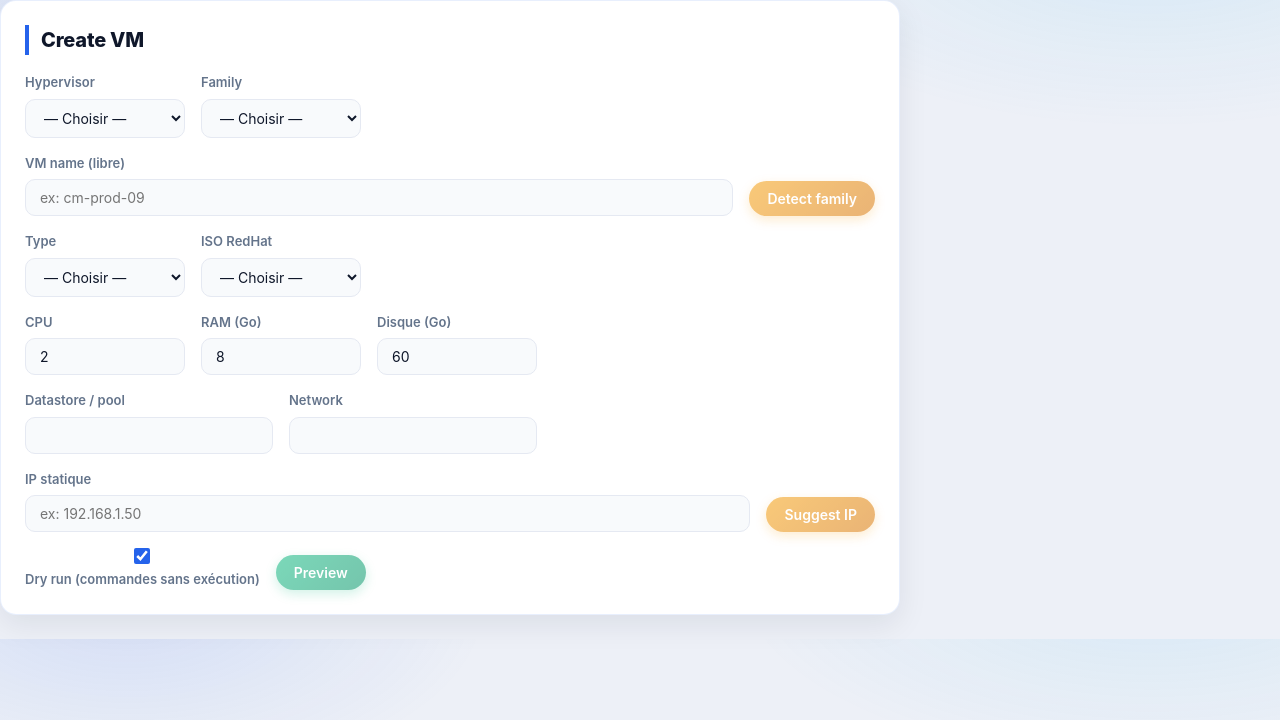
CreatePage › détecte la famille, suggère une IP et prévisualise
Select "esx-08 (esxi)" in the dropdown labelled "Hypervisor": point(105, 118) 25,98 -> 185,138
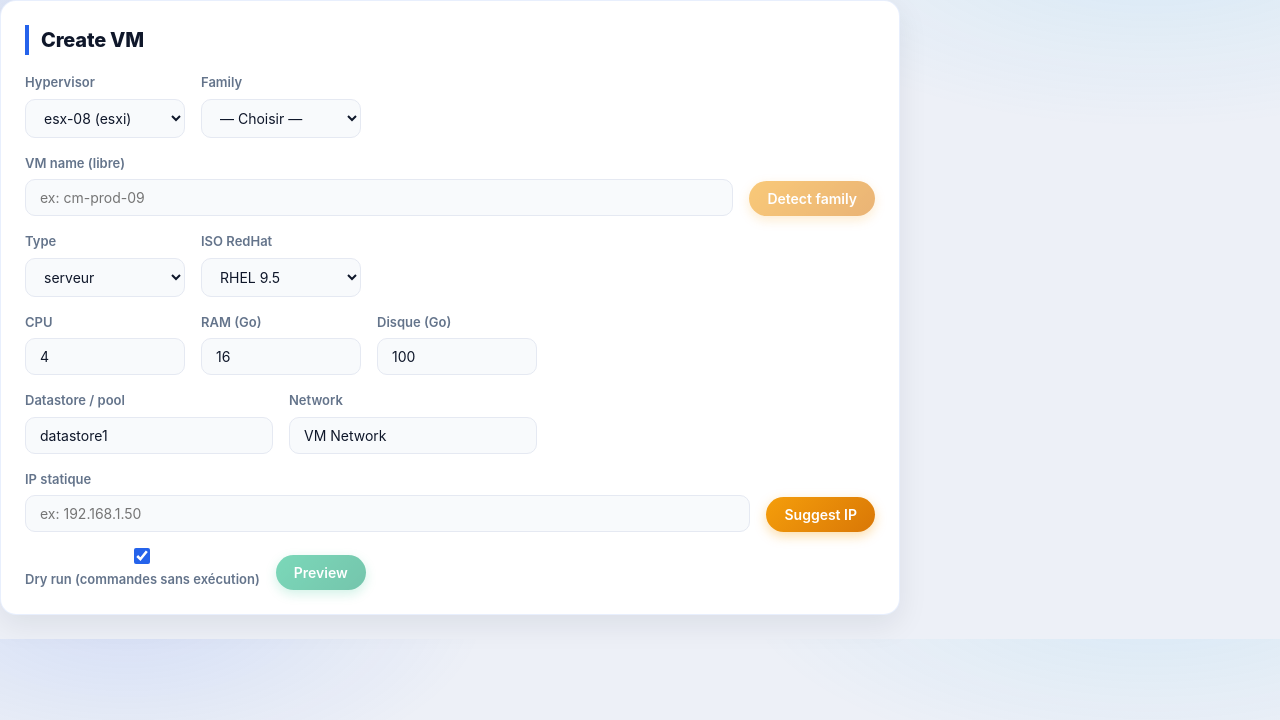
Expected: the field showing "datastore1" is shown, 25,416 -> 273,454
In the field with placeholder "ex: cm-prod-09": point(379, 198) 25,179 -> 733,216, type "sm-new-01"
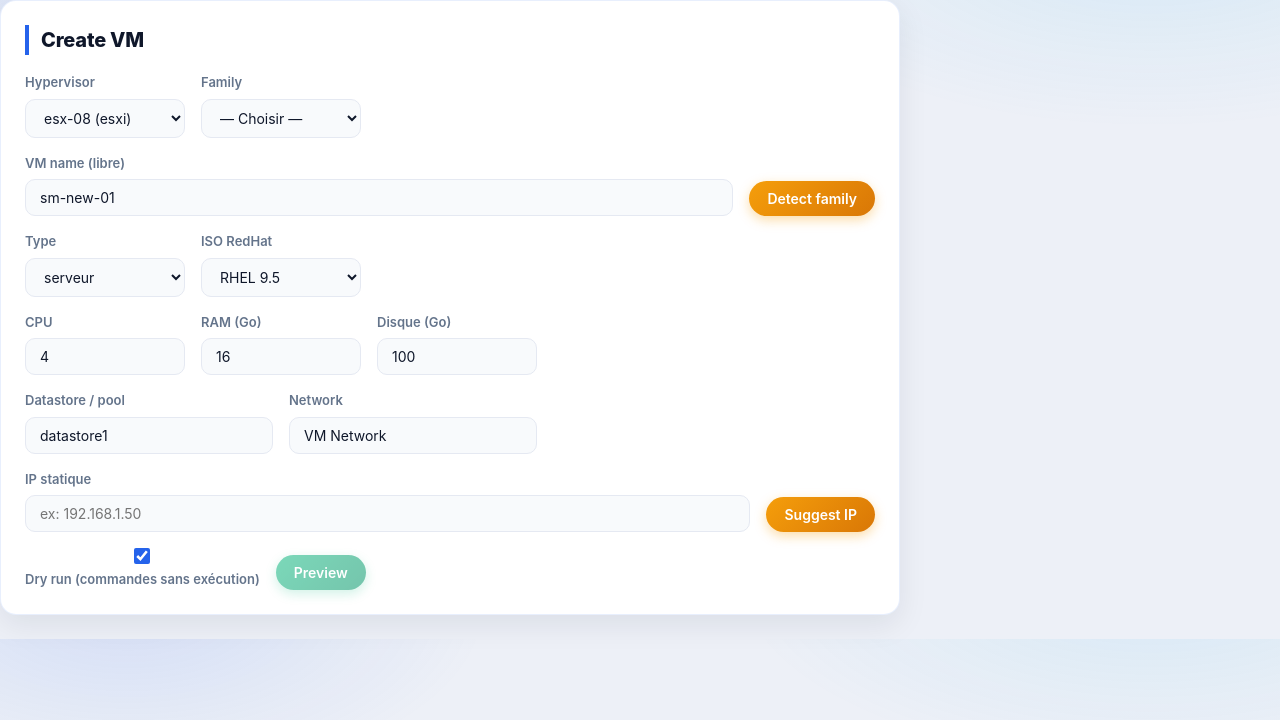
Click the button "Detect family": point(812, 198) 749,181 -> 875,216
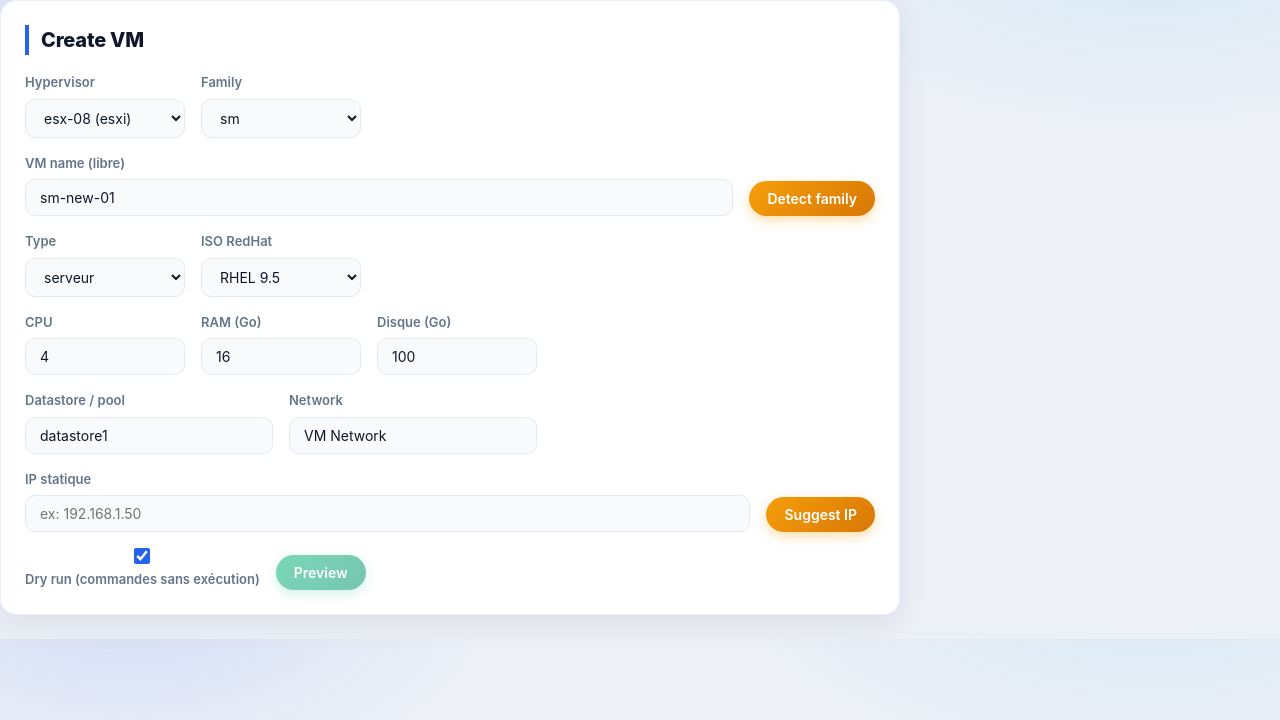
Click the button "Suggest IP": point(821, 514) 766,497 -> 875,532
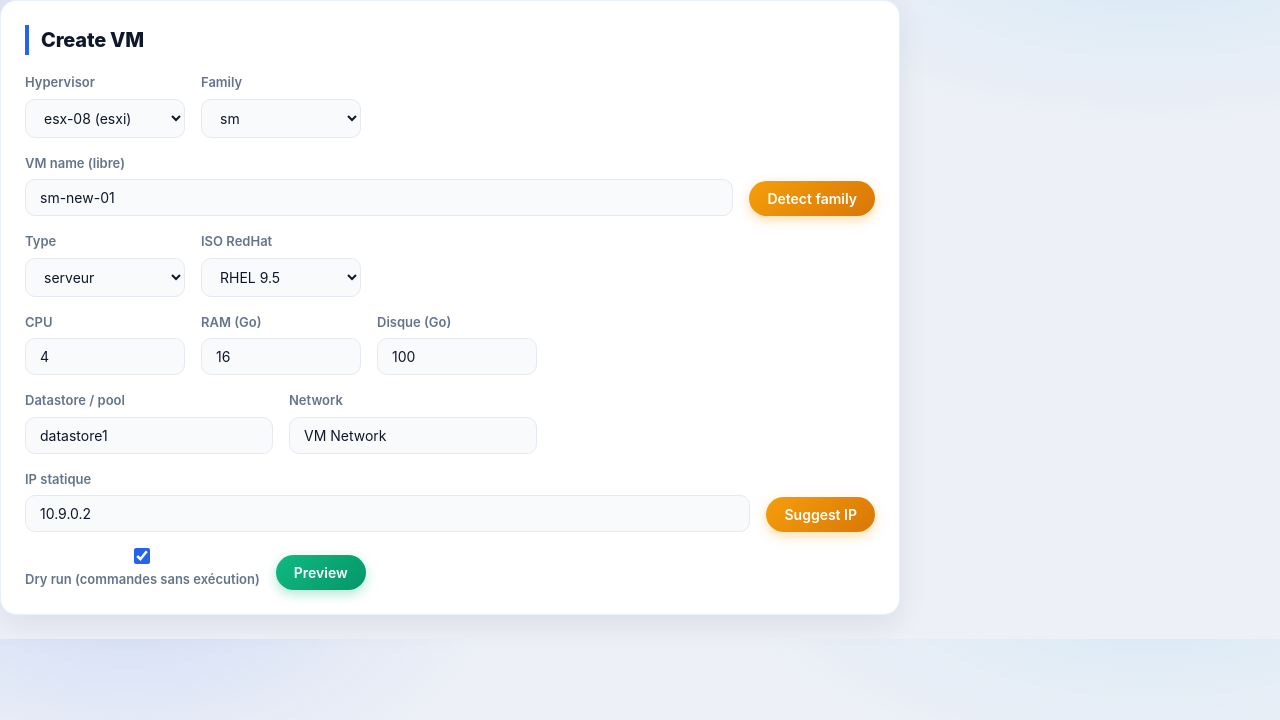
Expected: the field showing "10.9.0.2" is shown, 25,495 -> 750,532
Submit the form, box 25,73 -> 875,590
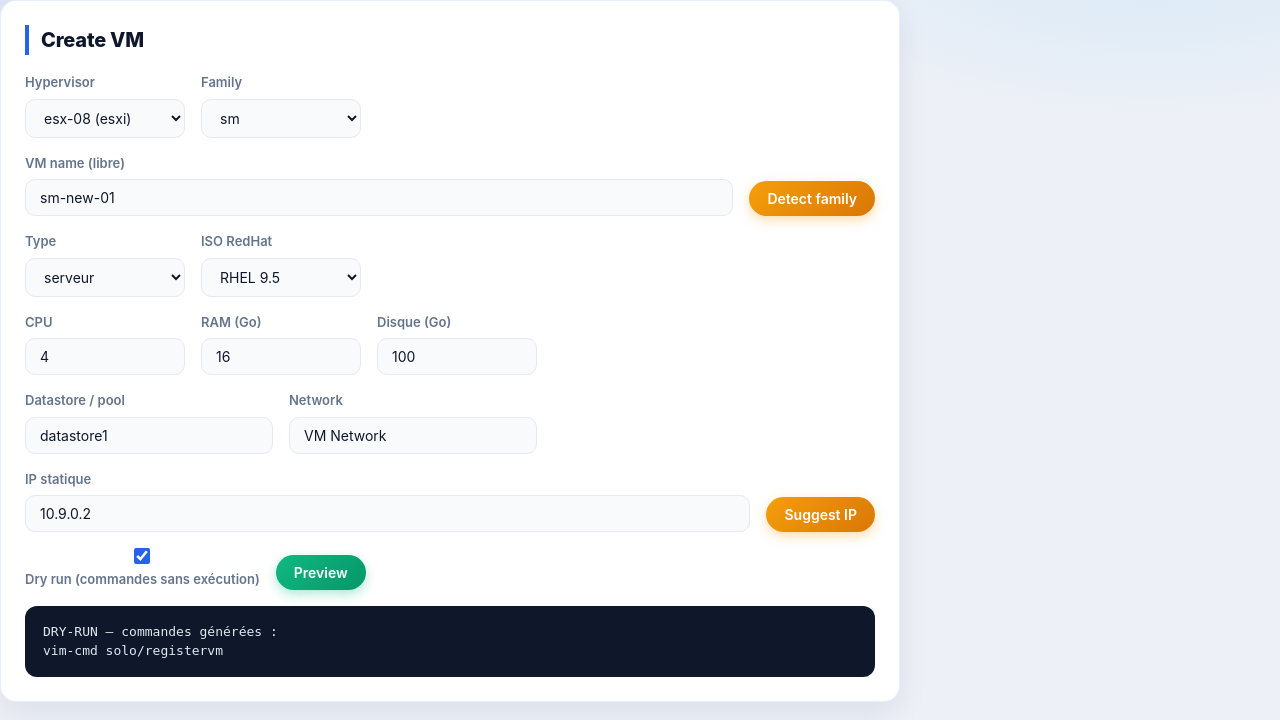
Expected: the text "DRY-RUN — commandes générées : vim-cmd solo/registervm" is shown, 25,606 -> 875,676
